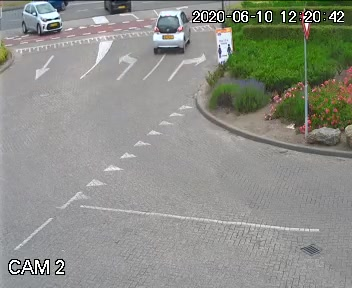car: (17, 1, 68, 39), (149, 10, 192, 54)
